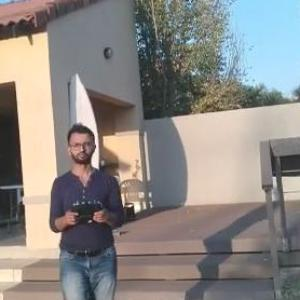follow: (48, 118, 131, 299)
